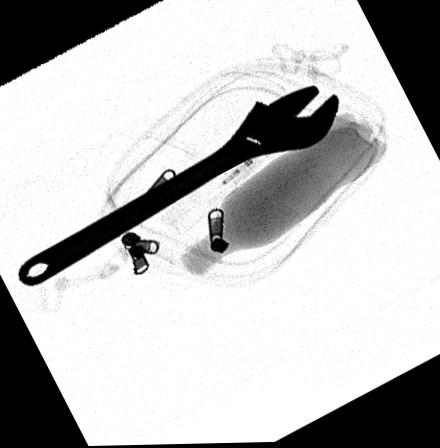Wrench: (11, 89, 340, 287)
